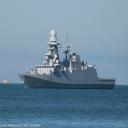Fragata: (17, 24, 119, 91)
